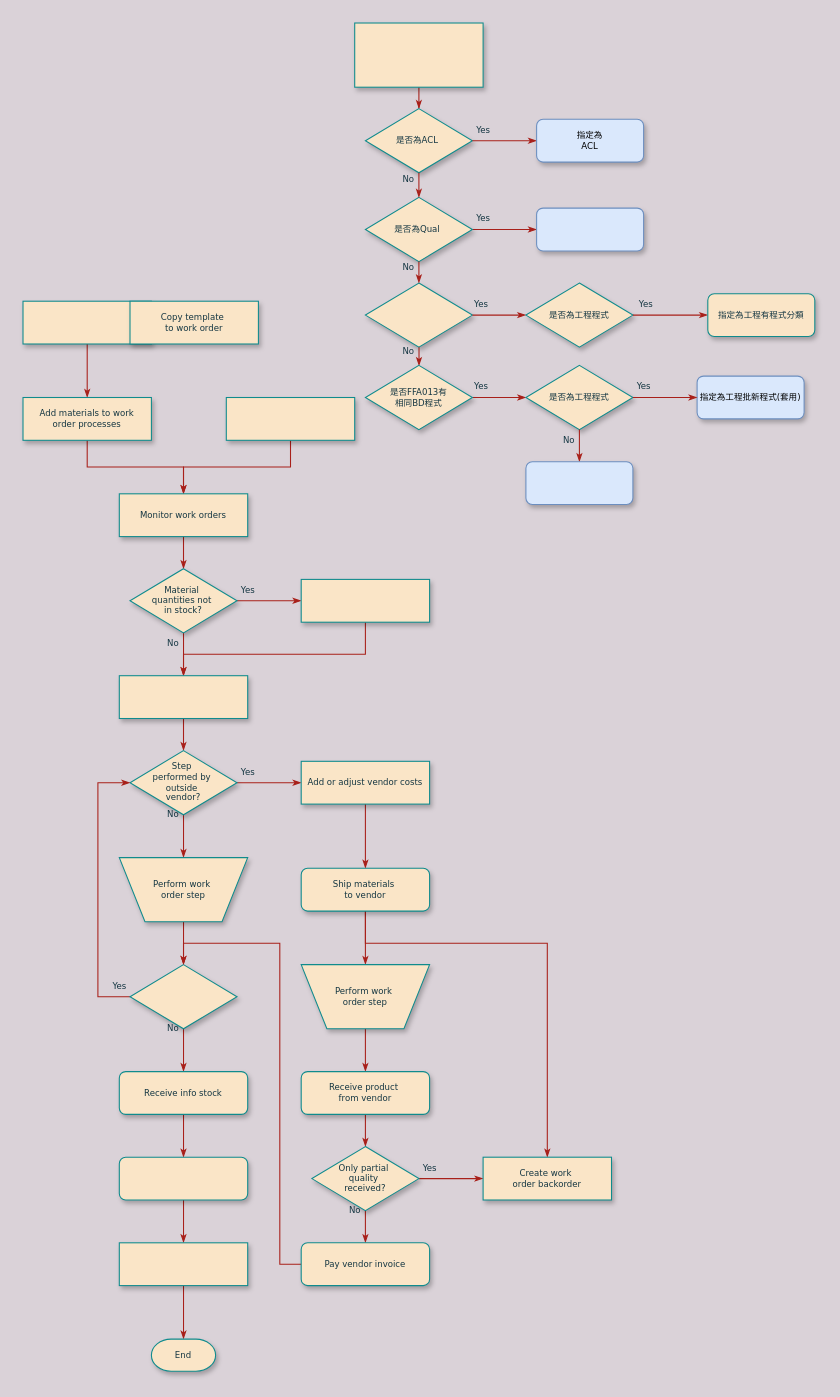
This 840x1397 diagram has some shape labels left out. Each missing label, with the centre of its shape:
Additional processing required?: the point at 184,997
Adjust material quantities if needed: the point at 291,420
Change status to Complete: the point at 184,1265
Change status to In Process: the point at 184,698
Create a work order: the point at 88,323
Procedure or transfer materials: the point at 366,602
Ship product on order if needed: the point at 184,1179
指定為 Qual: the point at 590,230
指定為量產 批新程式(套用): the point at 580,484
檢查FFA013是否有資訊: the point at 419,316
週期性WIP資訊擷取: the point at 419,56
